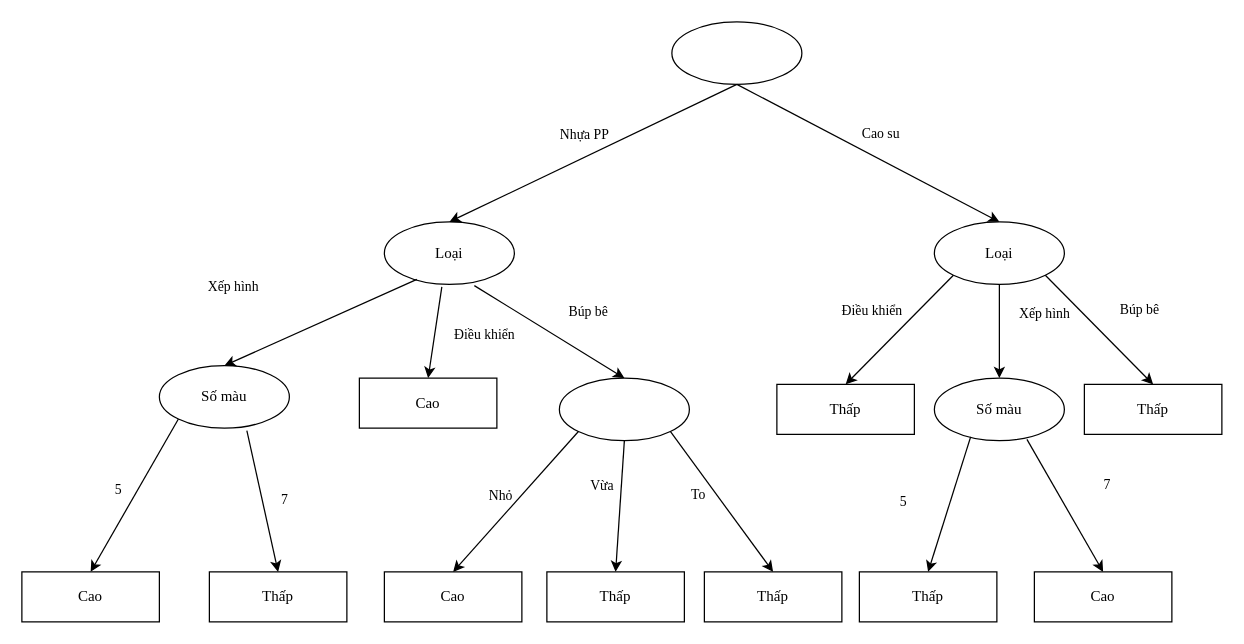
Some shapes in this 1244 by 644 pixel diagram are drawn without their labels. The shapes that lost their labels are listed below. From the top down, each one's centre as x and y in pixels, then its label:
At (736,52): "Chất liệu".
At (623,409): "Kích thước".
